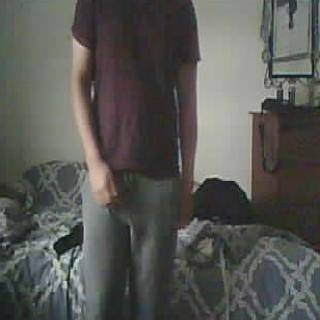Gray Sweatpants: (76, 171, 185, 320)
Maroon T-Shirt: (74, 0, 189, 166)
